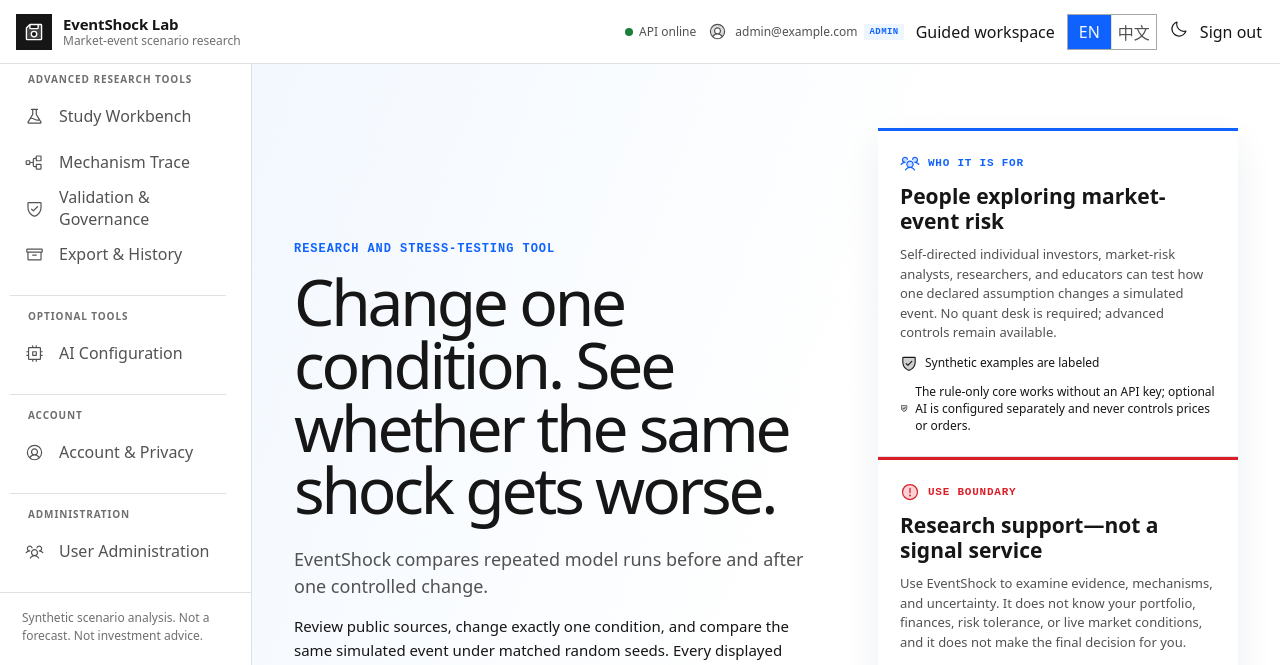
Test: 移动主导航 › 只有管理员账户会显示用户管理入口并加载最小化活动数据
The image size is (1280, 665).
(page scrolled)
What coordinates should you click on to do the following:
click the button "User Administration"
I would click on:
 (118, 551)
Its box is [10, 528, 226, 574].
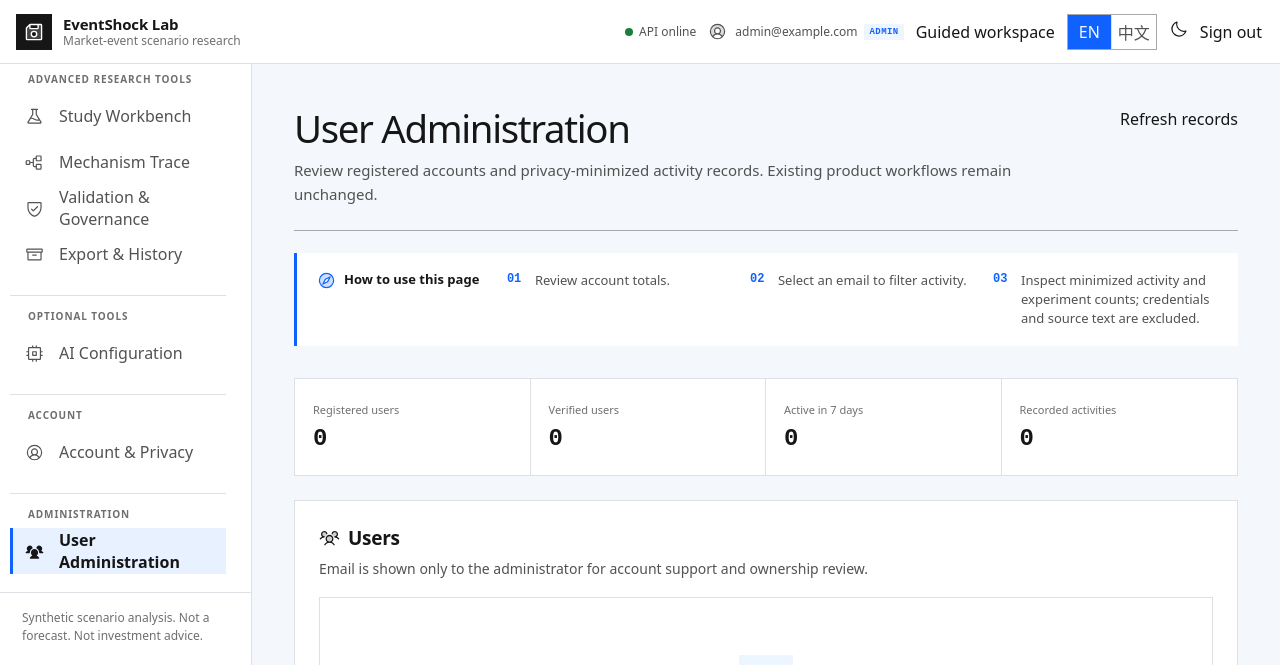
Result: the heading "User Administration" is shown at [294, 102, 630, 154]
